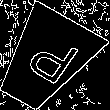P_SW: (13, 29, 78, 92)
